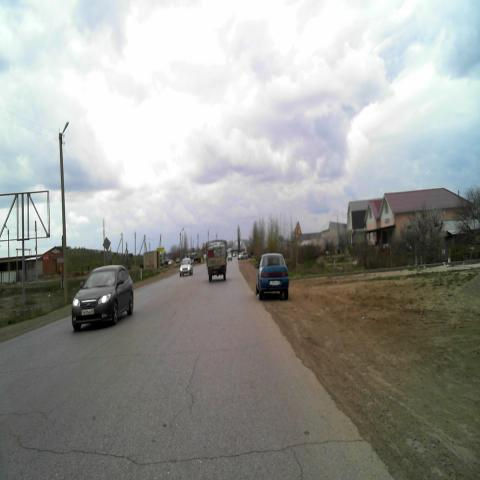1_11: (293, 220, 303, 236)
